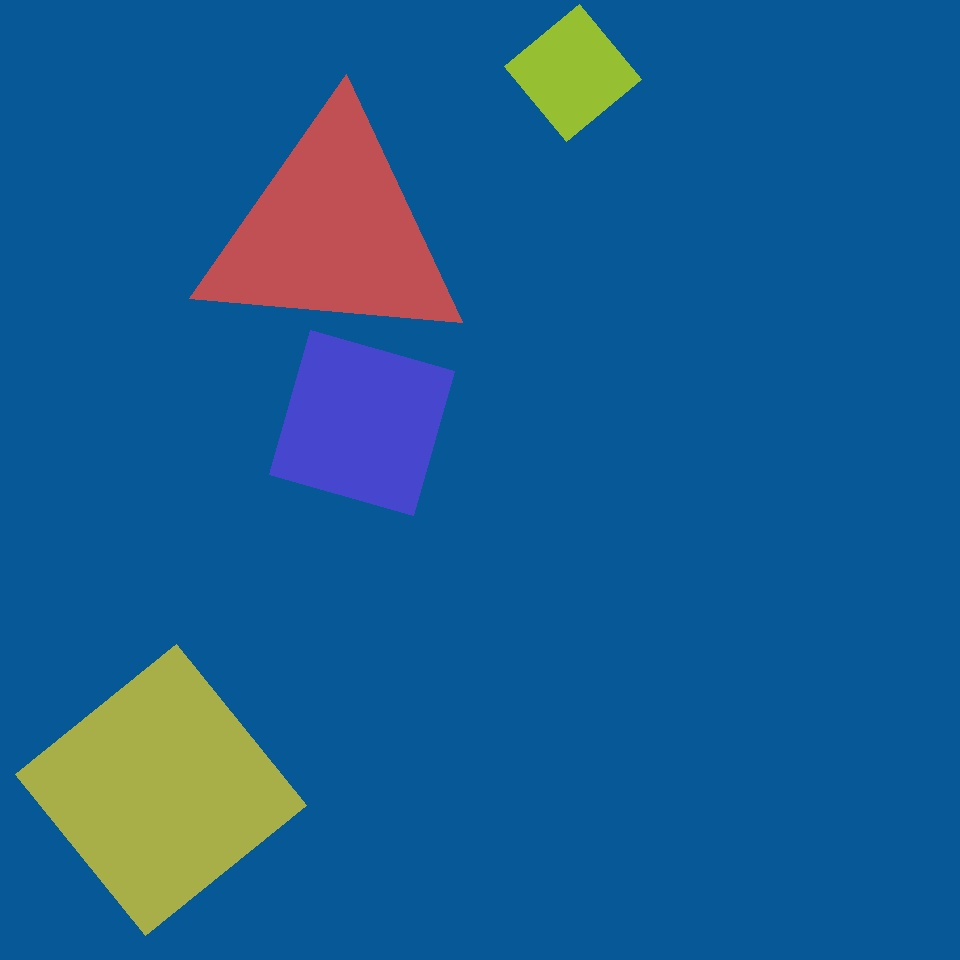circle: (40, 319, 305, 611), (230, 59, 495, 333), (196, 108, 469, 356), (57, 367, 293, 620), (408, 134, 571, 280)
square: (15, 644, 306, 935), (270, 330, 454, 516), (525, 485, 681, 640), (505, 4, 642, 142)
